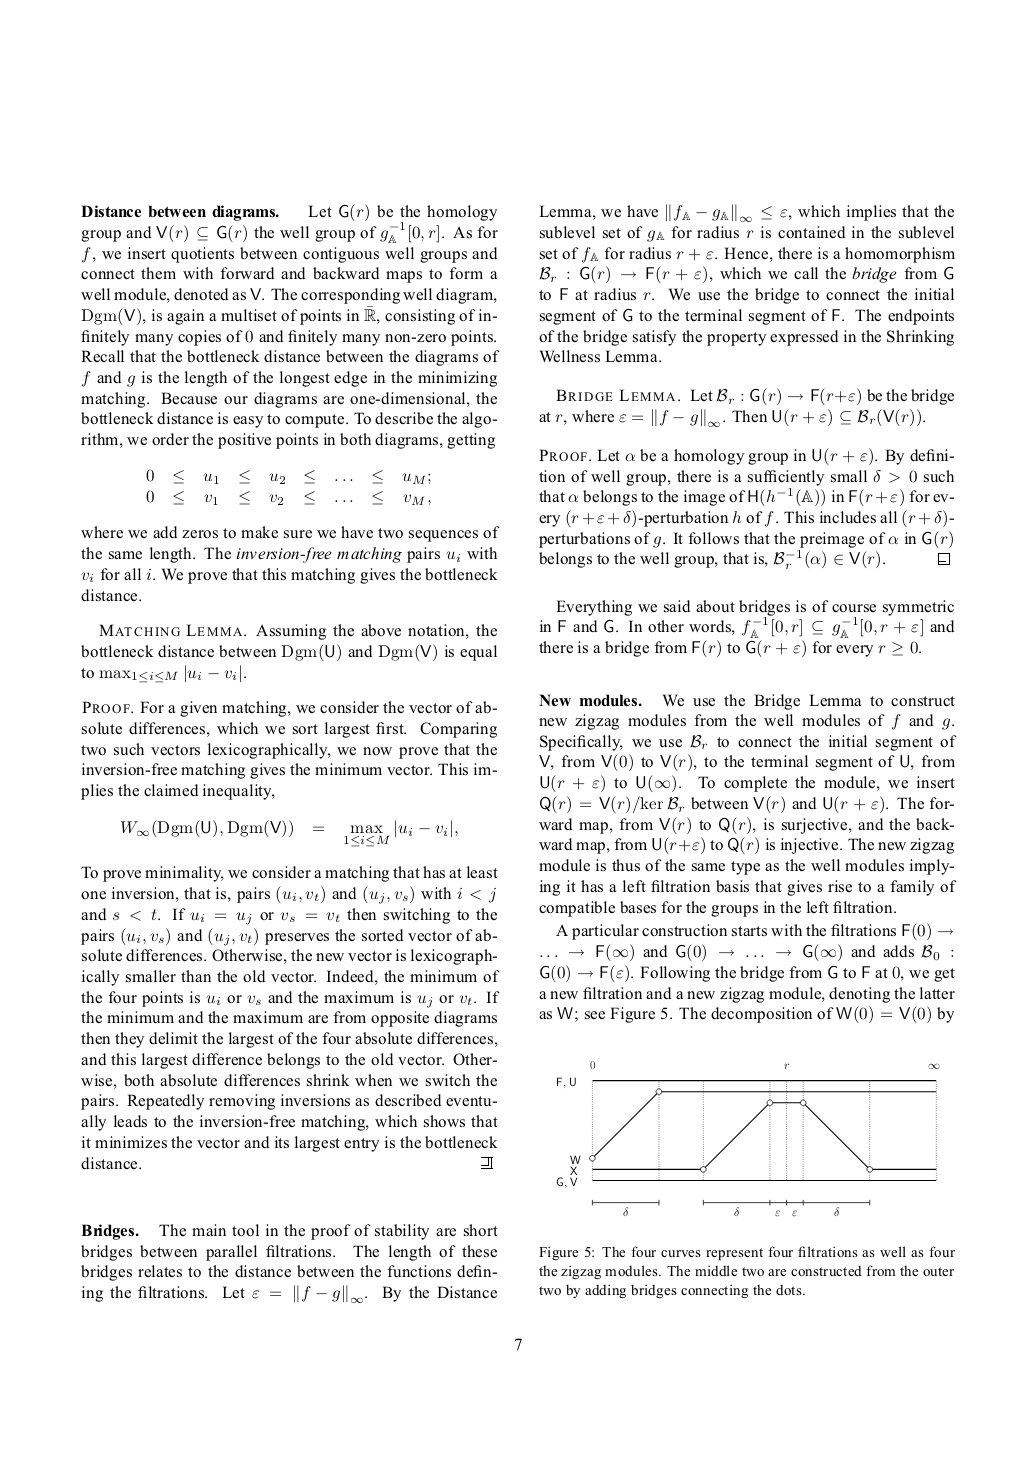figure: (556, 1061, 940, 1216)
formula: (121, 819, 457, 847), (146, 489, 430, 505), (146, 468, 430, 484)
